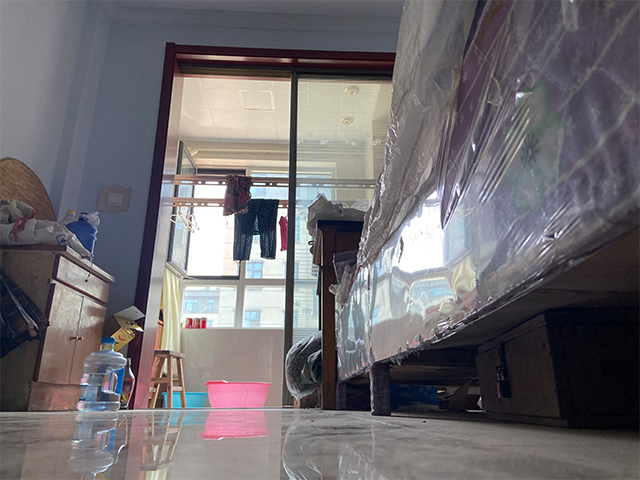bed: (333, 1, 640, 418)
cabinet: (1, 241, 115, 412)
stool: (148, 349, 187, 410)
